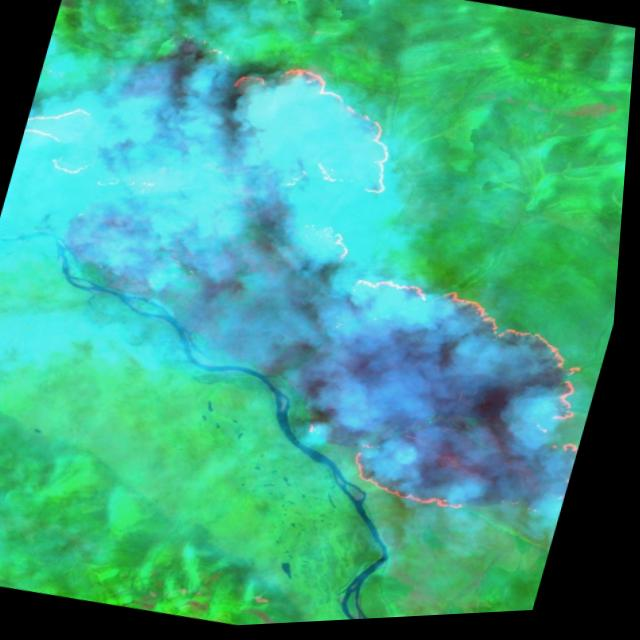fire: (0, 0, 639, 559)
